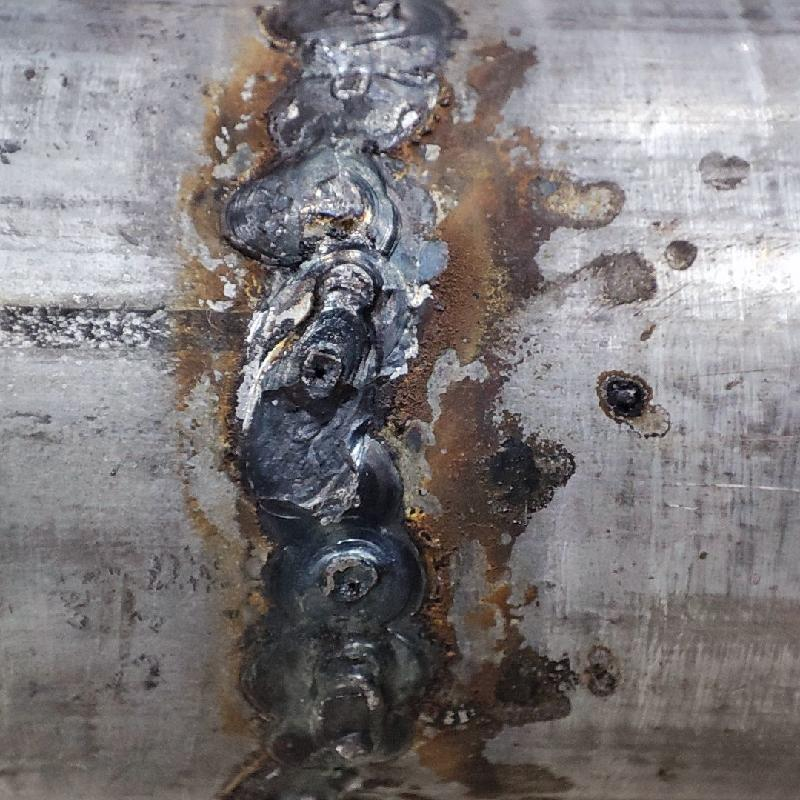Surface_pores: (298, 340, 345, 401)
wrong_size: (249, 3, 466, 794)
